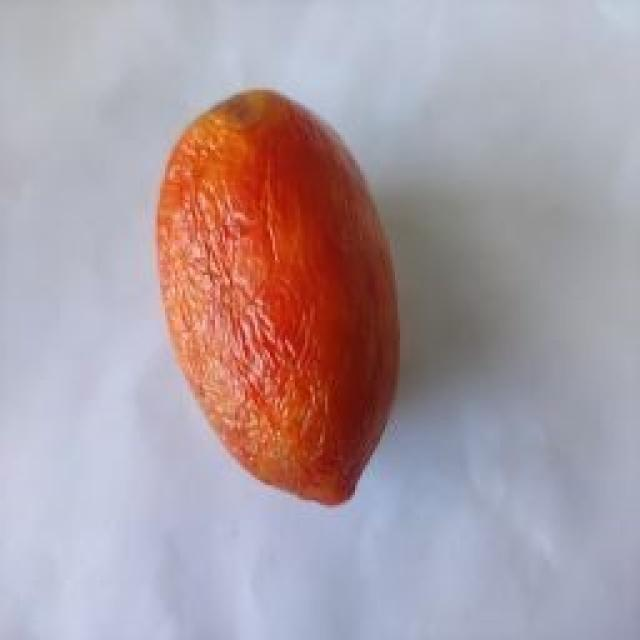overripe: (152, 80, 404, 509)
